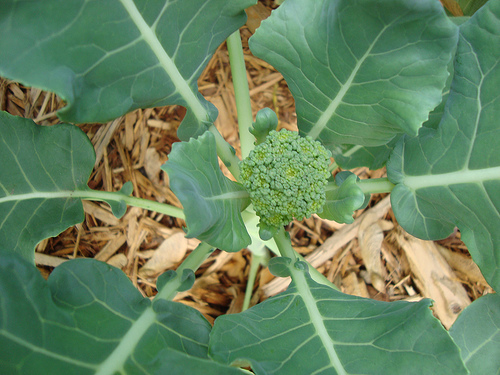broccoli: (244, 128, 334, 236)
